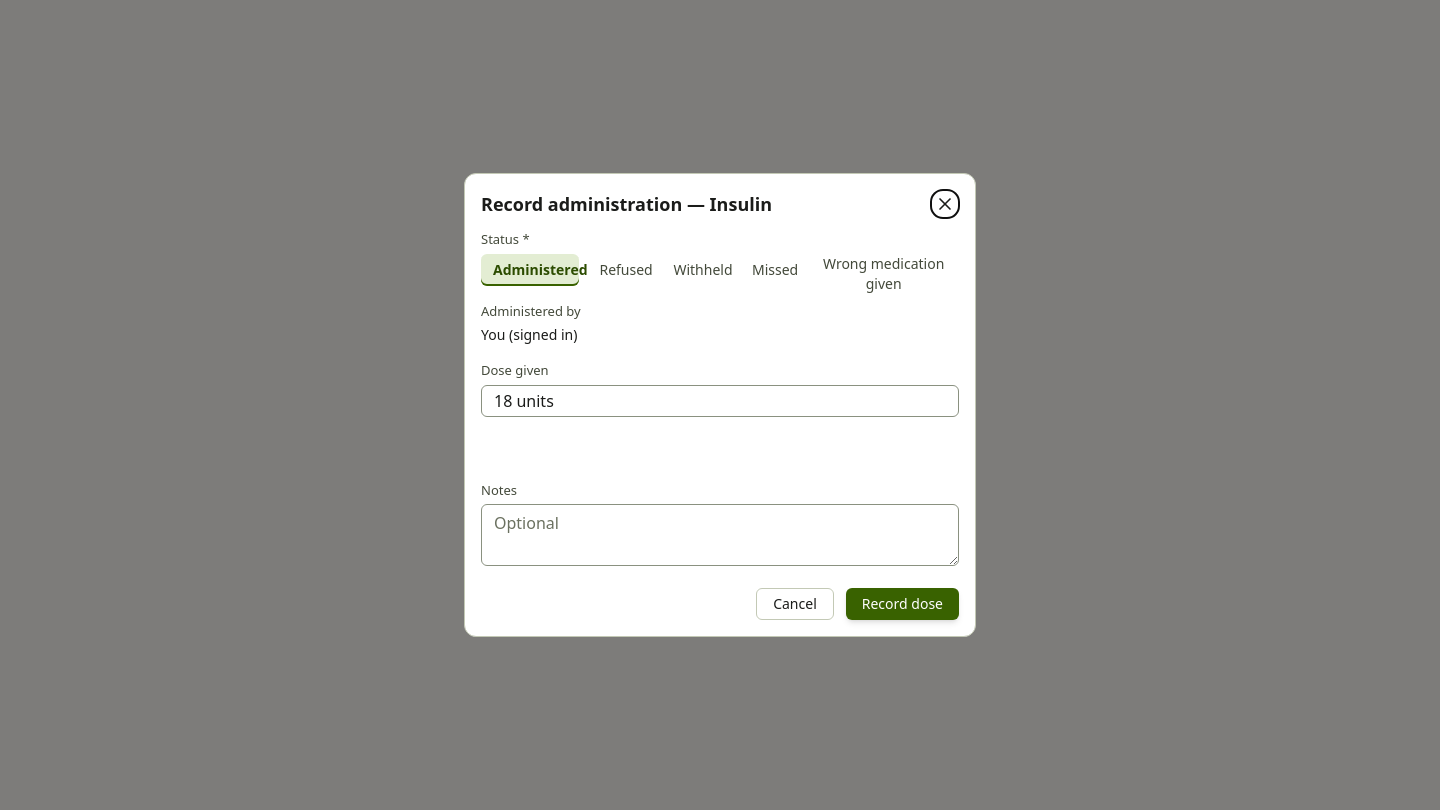
RecordAdministrationModal MED-03 wrong medication › blocks submission without a note on what was given instead
The width and height of the screenshot is (1440, 810).
Click the radio button labelled "Wrong medication given": (884, 270) x1=808 y1=254 x2=959 y2=286
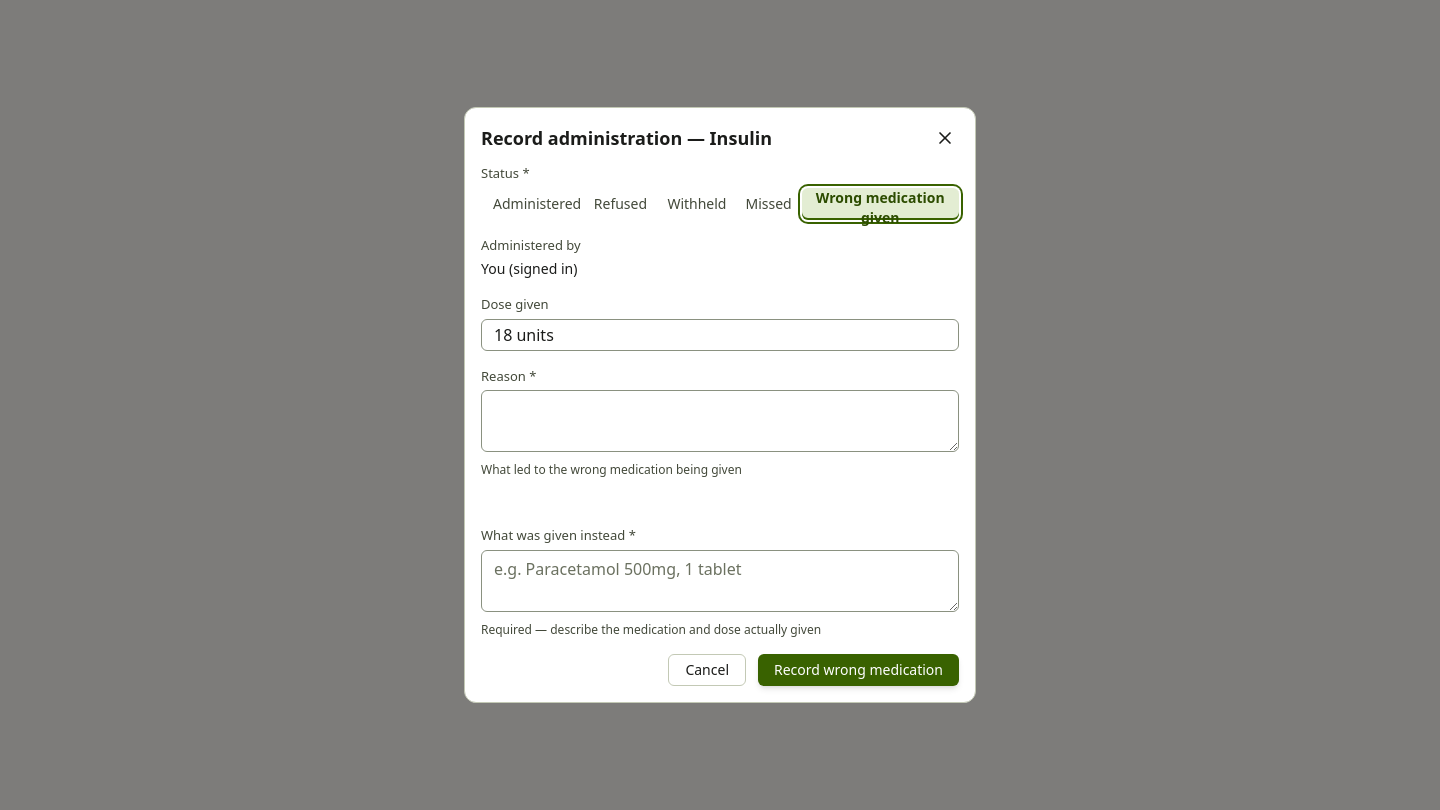
In the text box labelled "Reason *": (720, 421) x1=481 y1=390 x2=959 y2=452, type "Grabbed the wrong blister pack"
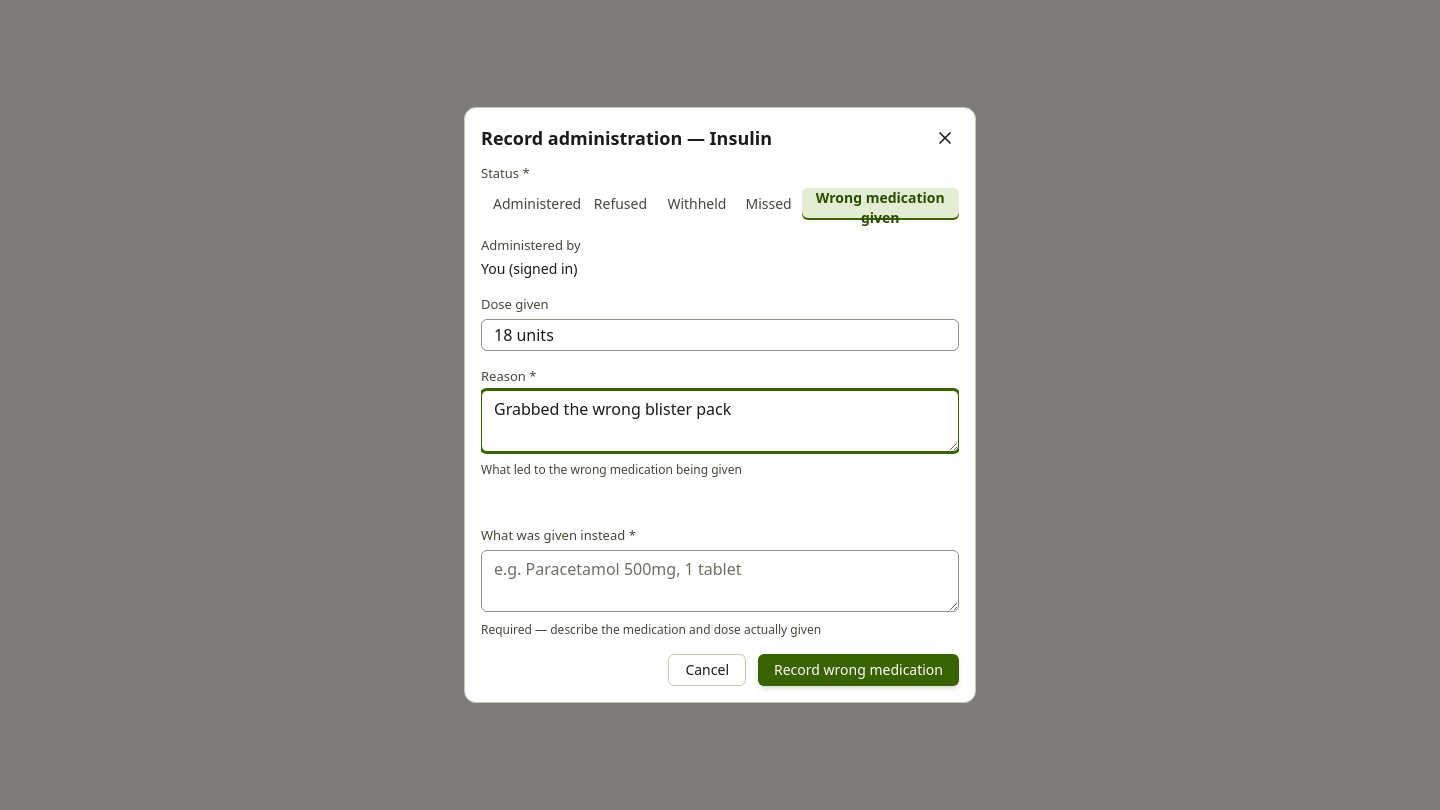
Click the button "Record wrong medication": (858, 670) x1=758 y1=654 x2=959 y2=686
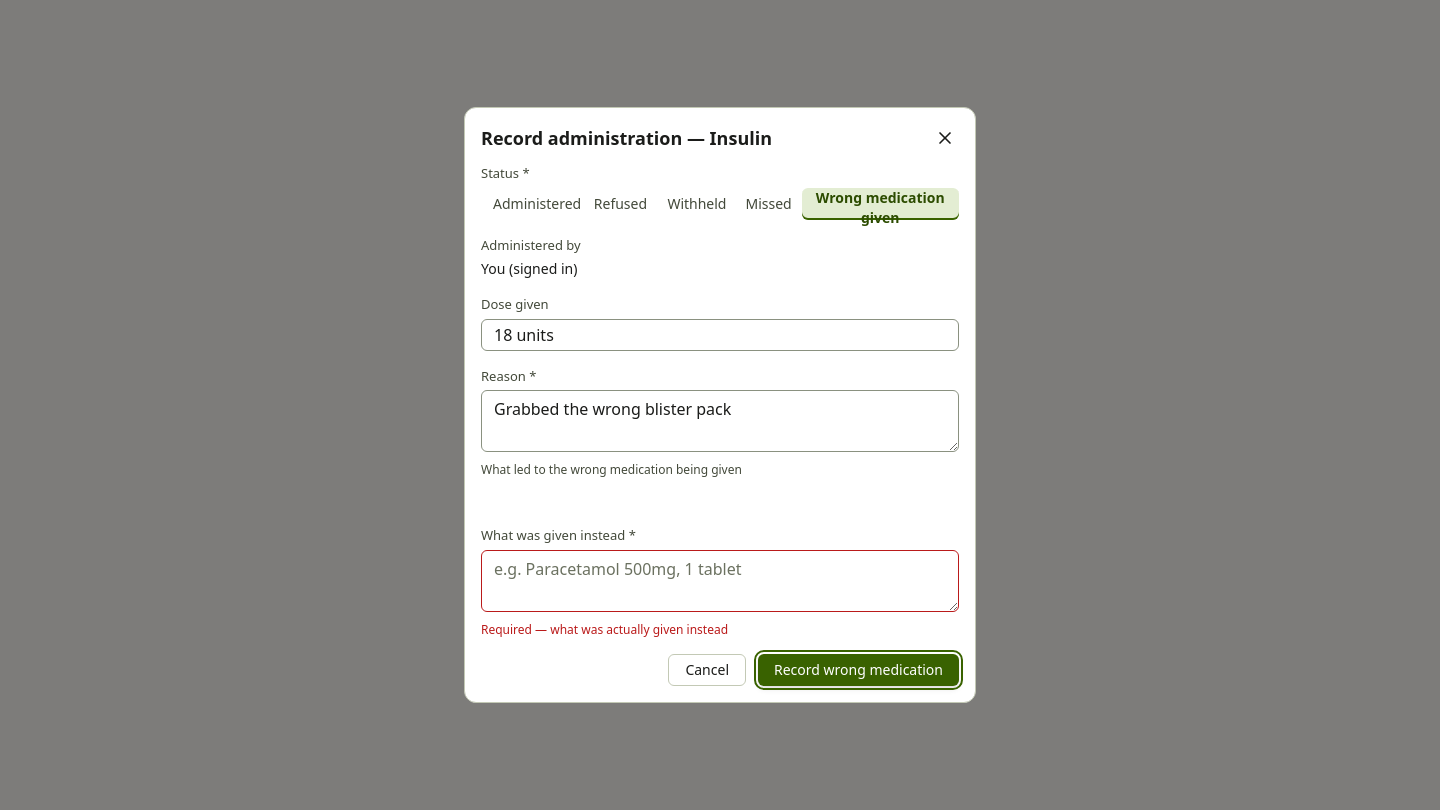
expect the text "Required — what was actually given instead" is shown: met, box x1=481 y1=621 x2=728 y2=638
